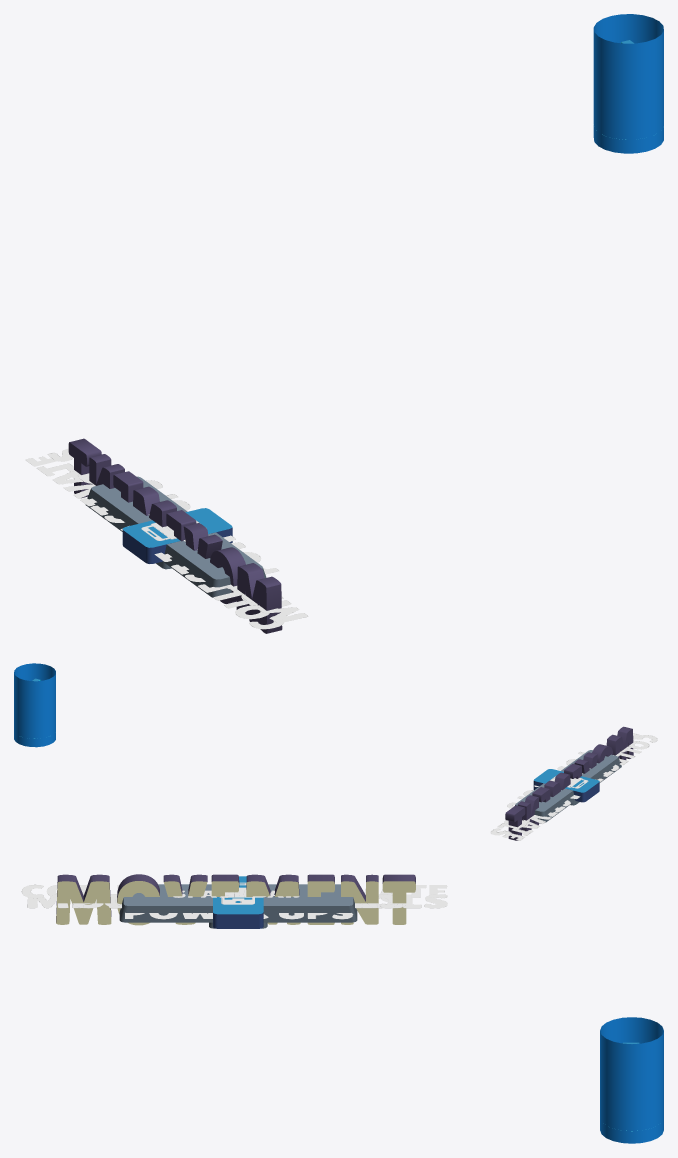
The model's file is all_assets.fbx.
3 renders of one model, top to bottom at view 1: azimuth 30°, elevation 25°; view 2: azimuth 150°, elevation 25°; view 3: azimuth 270°, elevation 25°, orthographic. The views are drawn at different scales.
Visible parts, largest first — view 1: Cylinder.002, movement, key_space, powerups, icon_pc, icon_mobile, Cylinder, mobile_controls; view 2: Cylinder.002, movement, key_space, powerups, icon_mobile, icon_pc, Cylinder, mobile_controls; view 3: movement, Cylinder.002, key_space, icon_mobile, powerups, mobile_controls, Cylinder, icon_pc, pc_controls.
Boxes of the visible parts, bbox=[...] form: Cylinder.002: bbox=[593, 14, 663, 139]; movement: bbox=[68, 438, 282, 633]; key_space: bbox=[85, 476, 266, 597]; powerups: bbox=[25, 452, 283, 629]; icon_pc: bbox=[122, 514, 232, 562]; icon_mobile: bbox=[122, 508, 232, 563]; Cylinder: bbox=[593, 124, 663, 153]; mobile_controls: bbox=[48, 448, 308, 623]; Cylinder.002: bbox=[14, 663, 55, 738]; movement: bbox=[505, 726, 633, 840]; key_space: bbox=[515, 750, 621, 822]; powerups: bbox=[502, 735, 657, 840]; icon_mobile: bbox=[540, 769, 599, 801]; icon_pc: bbox=[533, 769, 599, 802]; Cylinder: bbox=[14, 731, 55, 747]; mobile_controls: bbox=[490, 733, 644, 837]; movement: bbox=[56, 874, 415, 925]; Cylinder.002: bbox=[600, 1017, 663, 1130]; key_space: bbox=[119, 884, 357, 922]; icon_mobile: bbox=[213, 876, 263, 928]; powerups: bbox=[21, 884, 447, 919]; mobile_controls: bbox=[27, 894, 447, 908]; Cylinder: bbox=[600, 1118, 663, 1143]; icon_pc: bbox=[213, 876, 263, 928]; pc_controls: bbox=[72, 893, 405, 908].
Size of the model in its own units: 3437 by 921 by 2878.
